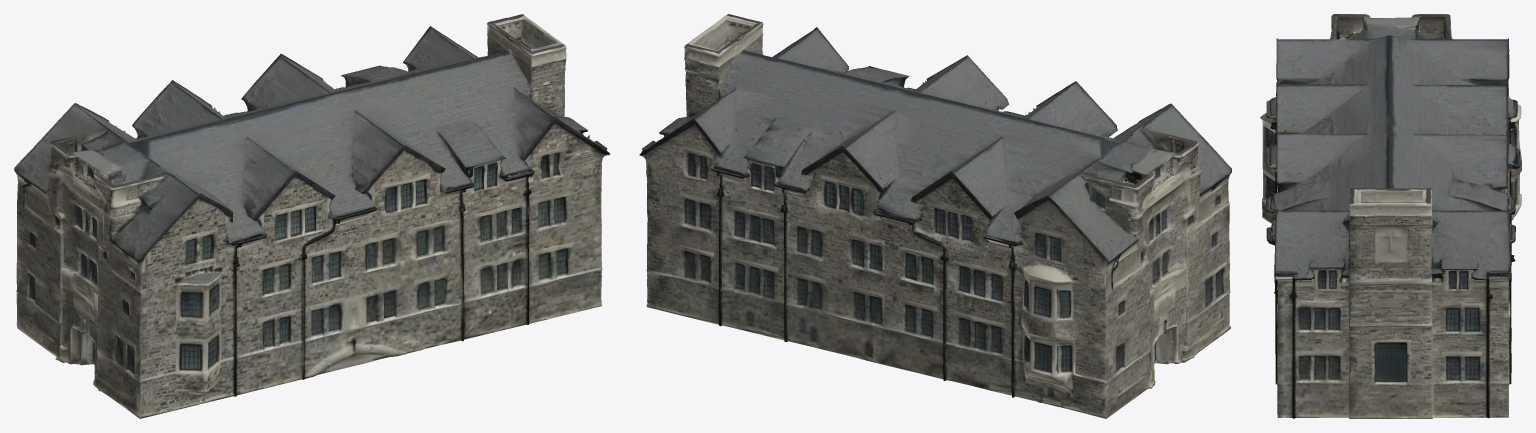
The model's file is reshall.glb.
The picture shows the model from 3 angles, left to right: view 1: azimuth 30°, elevation 25°; view 2: azimuth 150°, elevation 25°; view 3: azimuth 270°, elevation 25°; orthographic projection. The views are drawn at different scales.
Parts seen in each view (by area): view 1: Building1_LOD1; view 2: Building1_LOD1; view 3: Building1_LOD1.
Part boxes in pixels (<box>): Building1_LOD1: <box>14,14,610,418</box>; Building1_LOD1: <box>639,14,1231,418</box>; Building1_LOD1: <box>1260,14,1521,418</box>.
Size of the model in its own units: 1.9 by 0.8951 by 0.9816.
Materials: 1 (1 with a texture image).
